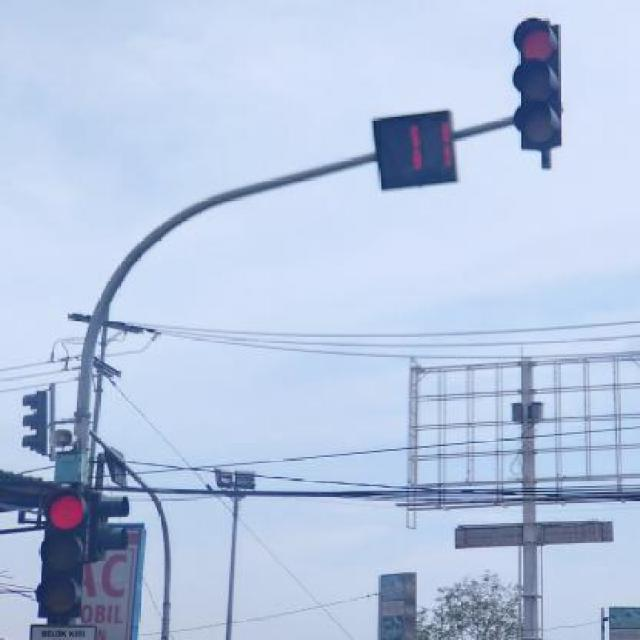traffic light: (36, 494, 97, 622), (516, 18, 563, 148)
